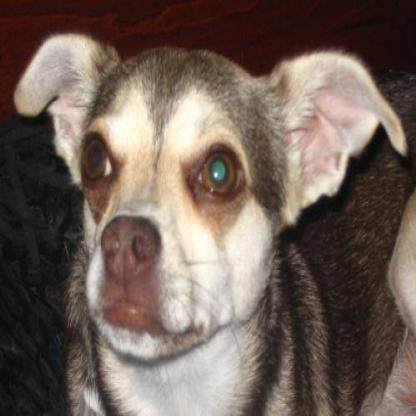dog: (18, 13, 356, 346)
